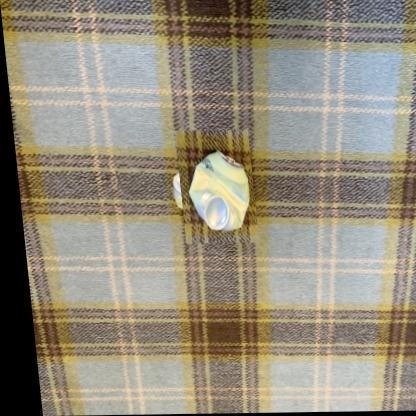trash: (189, 151, 248, 230)
